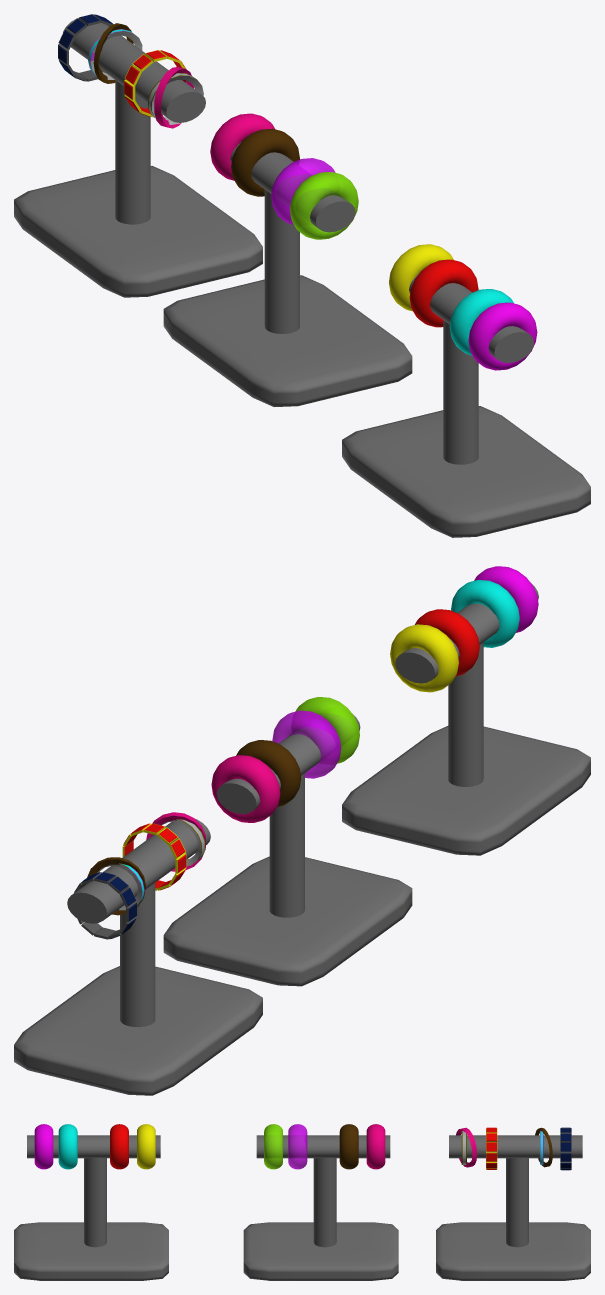
Rendered from Joias_Pulseiras.fbx.
3 renders of one model, top to bottom at view 1: azimuth 30°, elevation 25°; view 2: azimuth 150°, elevation 25°; view 3: azimuth 270°, elevation 25°, orthographic. The views are drawn at different scales.
Parts seen in each view (by area): view 1: pasted__pCube4 (×2), pasted__pasted__pCube4, pasted__pasted__pCylinder1 (×3), pasted__pCylinder1 (×2), pasted__pasted__pTorus1 (×2), pasted__pasted__pasted__pasted__pTorus1 (×2), pasted__pasted__pasted__pCylinder1, pasted__pasted__pasted__pasted__pasted__pTorus1 (×2), pasted__pasted__pasted__pTorus1 (×2), pTorus2; view 2: pasted__pCube4 (×2), pasted__pasted__pCube4, pasted__pasted__pCylinder1 (×3), pasted__pCylinder1 (×2), pasted__pasted__pasted__pasted__pasted__pTorus1 (×2), pasted__pasted__pasted__pTorus1 (×2), pasted__pasted__pasted__pCylinder1, pasted__pasted__pasted__pasted__pTorus1 (×2), pasted__pasted__pTorus1 (×2); view 3: pasted__pCube4 (×2), pasted__pasted__pCube4, pasted__pasted__pCylinder1 (×3), pasted__pCylinder1 (×2), pasted__pasted__pasted__pCylinder1, pasted__pasted__pasted__pTorus1 (×2), pasted__pasted__pasted__pasted__pasted__pTorus1 (×2), pasted__pasted__pTorus1 (×2), pasted__pasted__pasted__pasted__pTorus1 (×2), pTorus2, pTorus4.
Boxes of the visible parts, x1,y1,x2,y2 form: pasted__pCube4 (×2): [163, 275, 590, 537]; pasted__pasted__pCube4: [14, 166, 262, 297]; pasted__pasted__pCylinder1 (×3): [115, 80, 533, 362]; pasted__pCylinder1 (×2): [264, 189, 478, 464]; pasted__pasted__pTorus1 (×2): [290, 172, 537, 370]; pasted__pasted__pasted__pasted__pTorus1 (×2): [231, 128, 478, 327]; pasted__pasted__pasted__pCylinder1: [63, 18, 205, 122]; pasted__pasted__pasted__pasted__pasted__pTorus1 (×2): [210, 113, 453, 311]; pasted__pasted__pasted__pTorus1 (×2): [271, 158, 513, 355]; pTorus2: [154, 67, 194, 128]; pasted__pCube4 (×2): [163, 726, 590, 986]; pasted__pasted__pCube4: [14, 966, 262, 1095]; pasted__pasted__pCylinder1 (×3): [120, 583, 538, 1027]; pasted__pCylinder1 (×2): [269, 642, 483, 917]; pasted__pasted__pasted__pasted__pasted__pTorus1 (×2): [211, 624, 458, 822]; pasted__pasted__pasted__pTorus1 (×2): [272, 580, 519, 778]; pasted__pasted__pasted__pCylinder1: [67, 819, 210, 923]; pasted__pasted__pasted__pasted__pTorus1 (×2): [236, 609, 479, 806]; pasted__pasted__pTorus1 (×2): [295, 566, 538, 763]; pasted__pCube4 (×2): [14, 1222, 398, 1280]; pasted__pasted__pCube4: [436, 1222, 590, 1280]; pasted__pasted__pCylinder1 (×3): [27, 1135, 528, 1247]; pasted__pCylinder1 (×2): [84, 1157, 336, 1247]; pasted__pasted__pasted__pCylinder1: [449, 1135, 582, 1158]; pasted__pasted__pasted__pTorus1 (×2): [58, 1124, 307, 1169]; pasted__pasted__pasted__pasted__pasted__pTorus1 (×2): [137, 1124, 385, 1169]; pasted__pasted__pTorus1 (×2): [34, 1124, 282, 1169]; pasted__pasted__pasted__pasted__pTorus1 (×2): [110, 1124, 358, 1169]; pTorus2: [456, 1127, 477, 1167]; pTorus4: [535, 1127, 552, 1167].
Size of the model in its own units: 225 by 296 by 1160.
